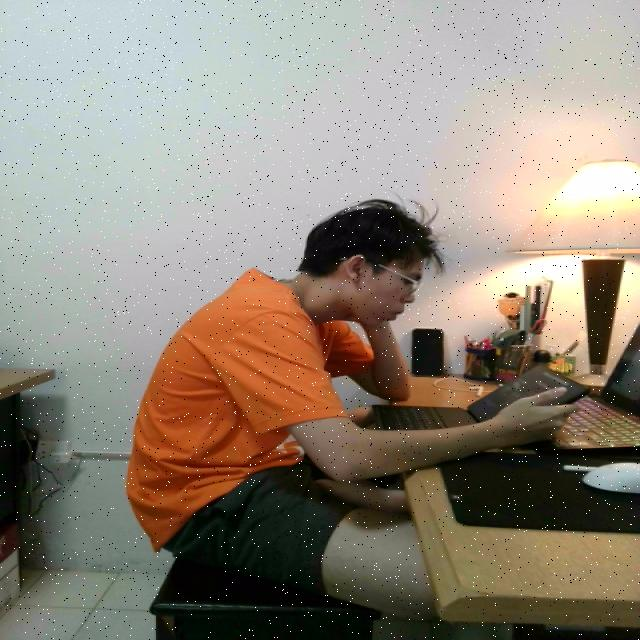Bad: (120, 193, 457, 605)
